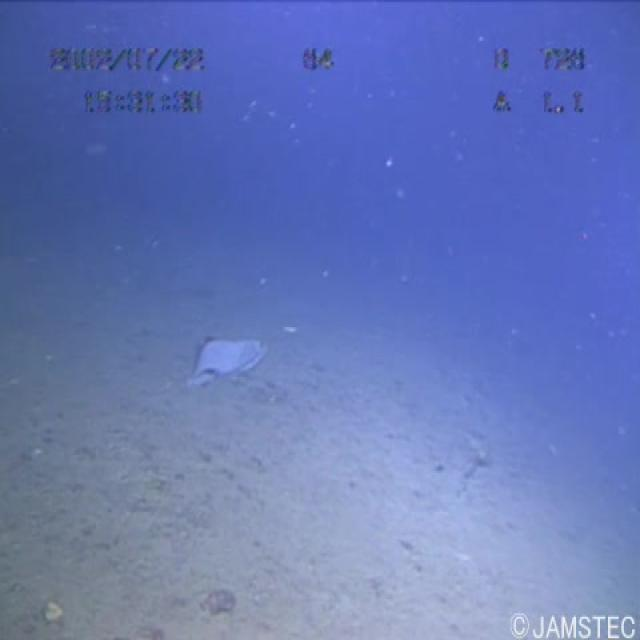plastic: (180, 329, 283, 405)
